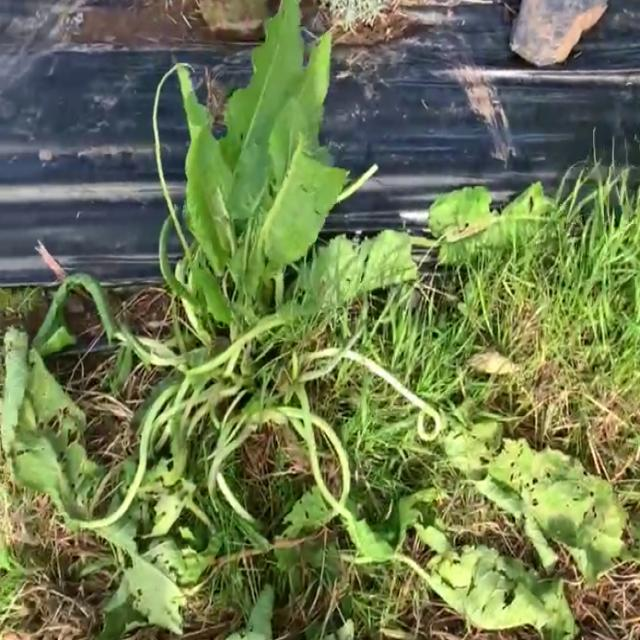organic waste: (50, 14, 538, 613), (110, 0, 460, 369), (14, 266, 334, 640), (317, 303, 640, 639), (362, 176, 611, 316)
